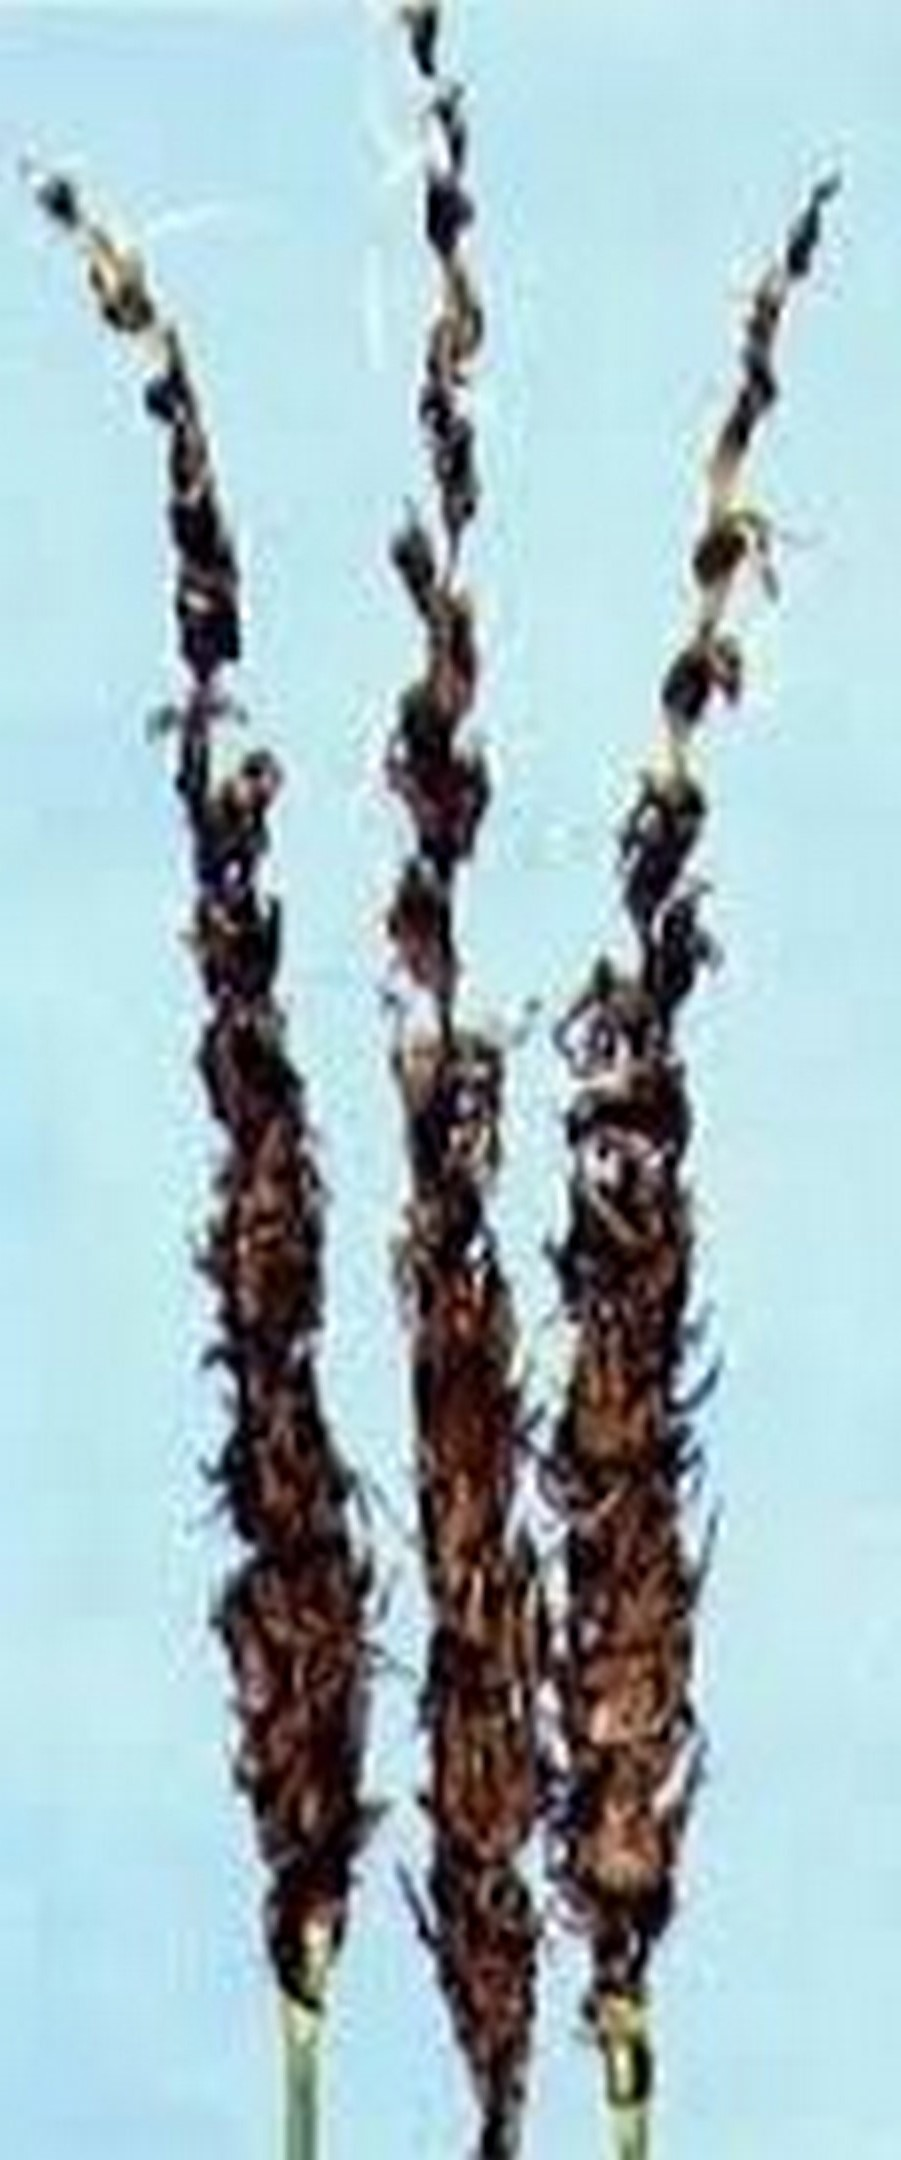Wheat Loose Smut: (61, 149, 805, 2008)
